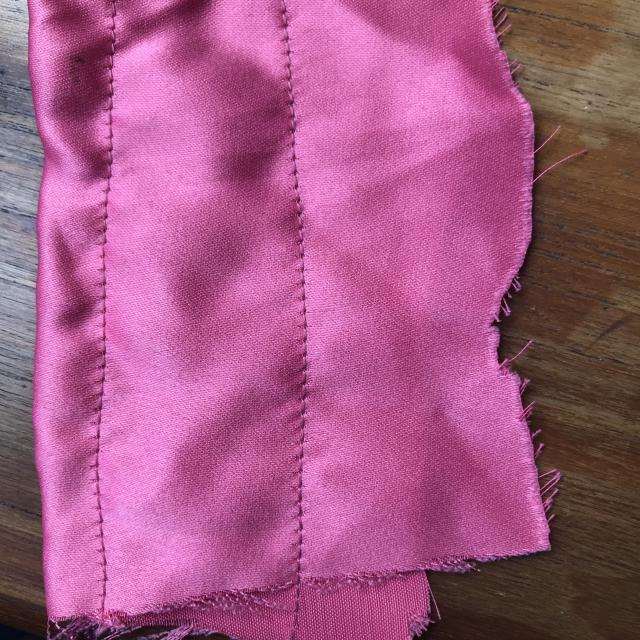good: (268, 56, 317, 186)
